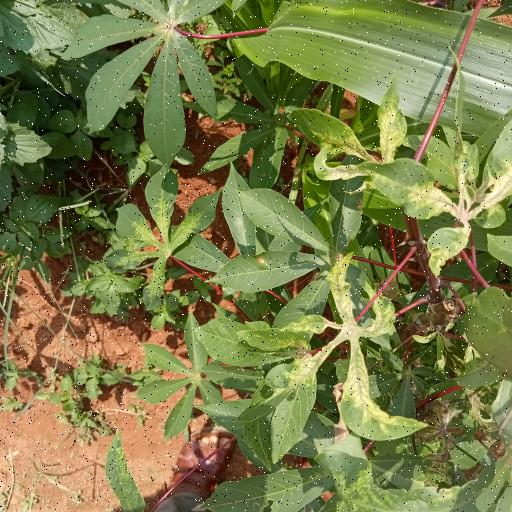Cassava_Brown_Leaf_Spot: (278, 256, 395, 446), (396, 150, 512, 270)
Cassava_Healthy: (67, 0, 228, 165), (105, 181, 221, 308)
